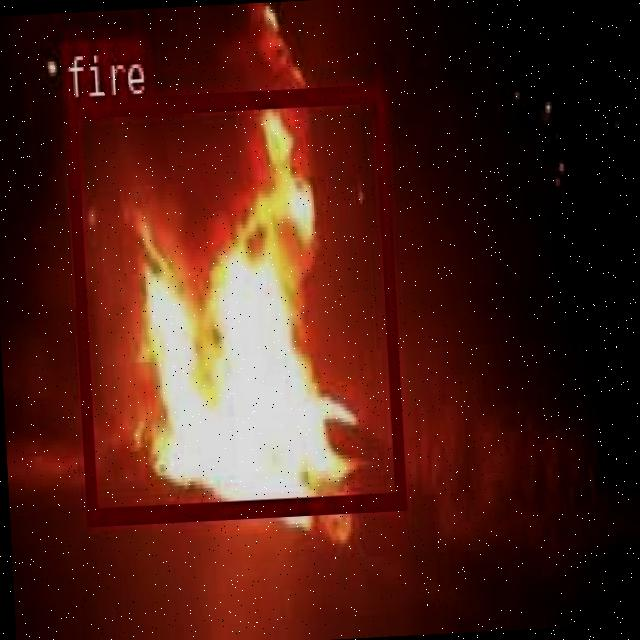fire: (64, 84, 404, 521)
